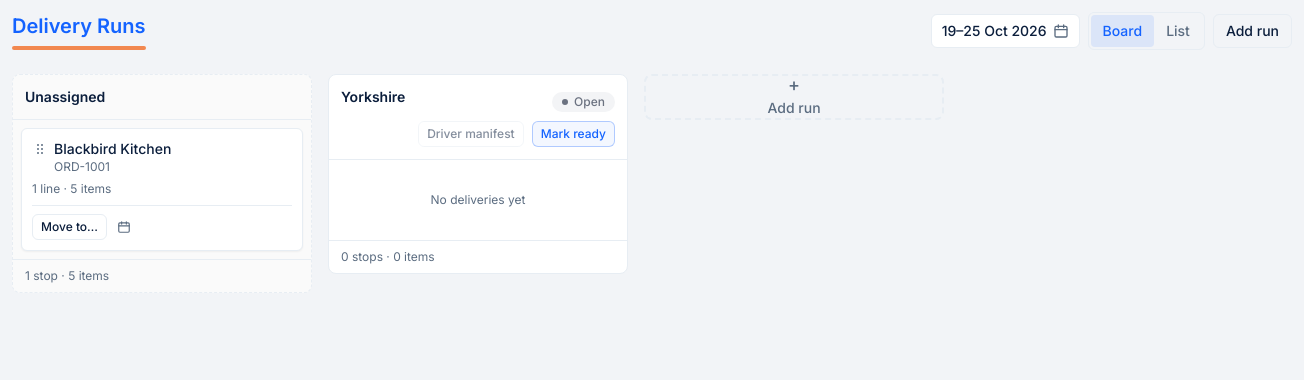
Scenario: DeliveryRunsPage — mutation flow › on any other error, shows a generic banner, rolls back the optimistic move, and does not refetch
The width and height of the screenshot is (1304, 380).
Expected: the element with test id "board-view" is shown, [12,74,944,293]
Click the button "Move to…" at (70, 227), box [32,214,107,240]
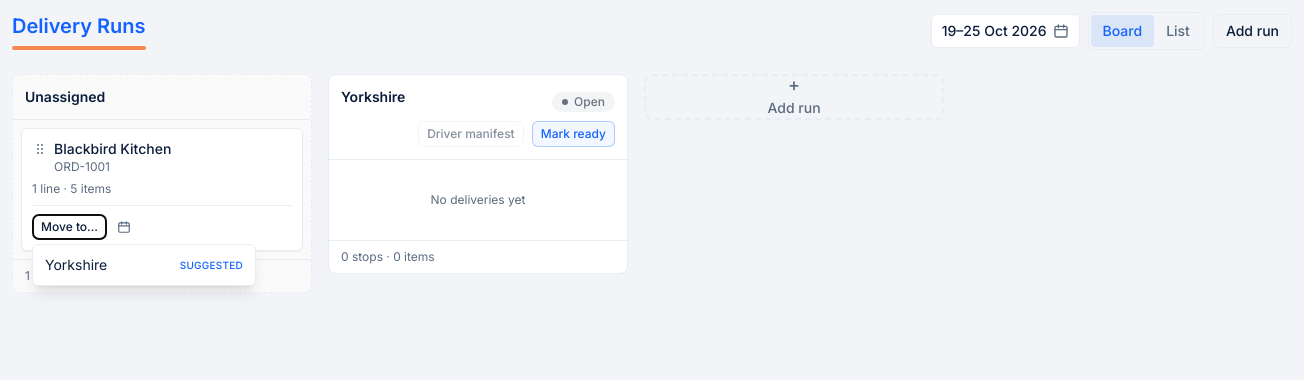
Click the menu item "Yorkshire Suggested" at (144, 265), box [33,249,255,281]
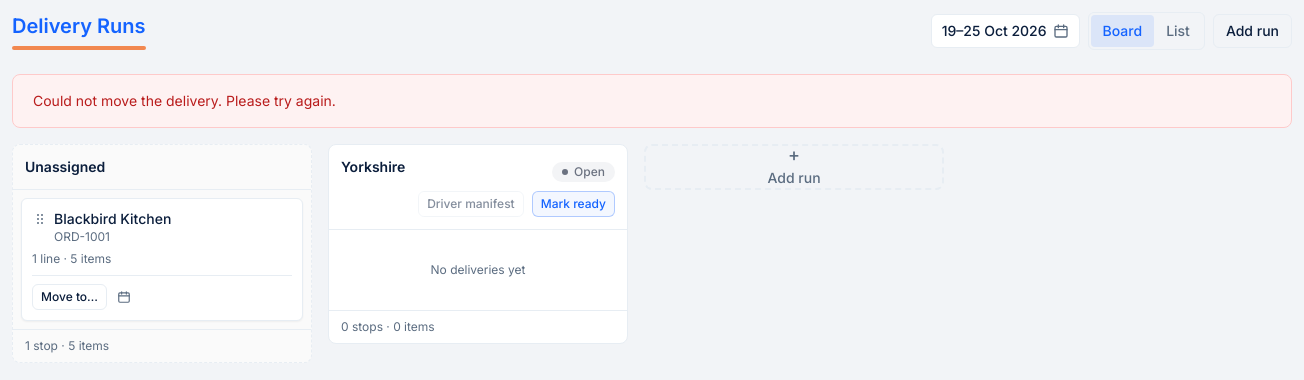
Expected: the text "Blackbird Kitchen" is shown, [54,209,171,229]
Expected: the text "Could not move the delivery. Please try again." is shown, [12,74,1292,128]
